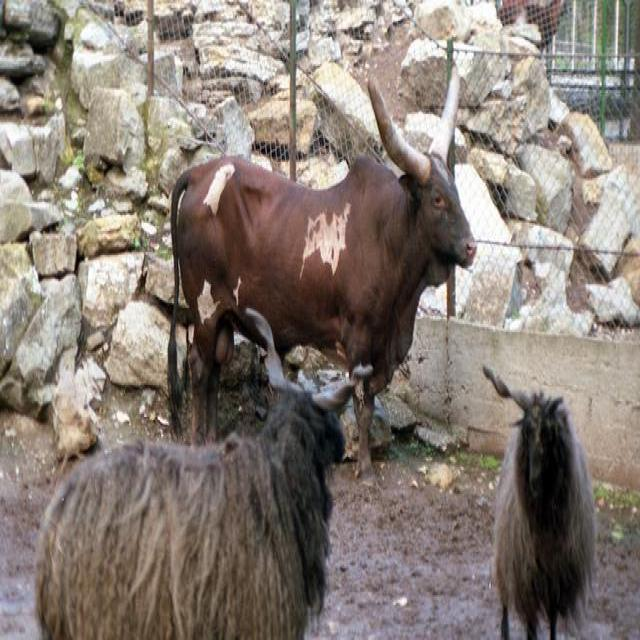Sheep: (30, 306, 377, 638), (481, 361, 597, 638)
